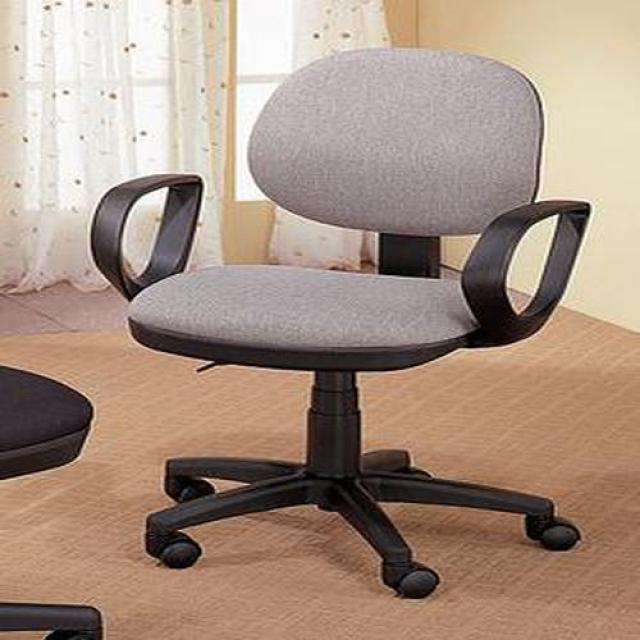swivelchair: (88, 47, 594, 602)
